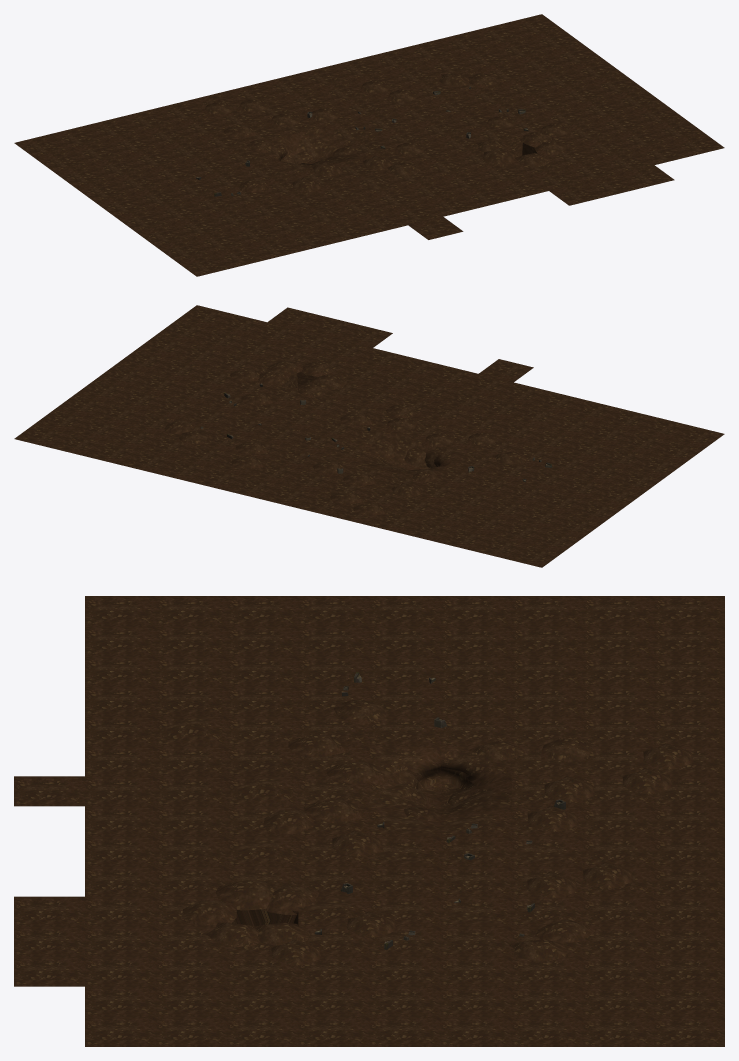
Rendered from mesh_raid3_ground.FBX.
3 views of the same model, one above another, from view 1: azimuth 30°, elevation 25°; view 2: azimuth 150°, elevation 25°; view 3: azimuth 270°, elevation 25° (orthographic). The views are drawn at different scales.
Visible parts, largest first — view 1: mesh_raid3_ground; view 2: mesh_raid3_ground; view 3: mesh_raid3_ground.
Boxes of the visible parts, left/top/right/bottom form: mesh_raid3_ground: left=14, top=14, right=724, bottom=276; mesh_raid3_ground: left=14, top=305, right=724, bottom=567; mesh_raid3_ground: left=14, top=596, right=724, bottom=1046.
Bounding box in the file's own units: 75 × 3.45 × 50.
